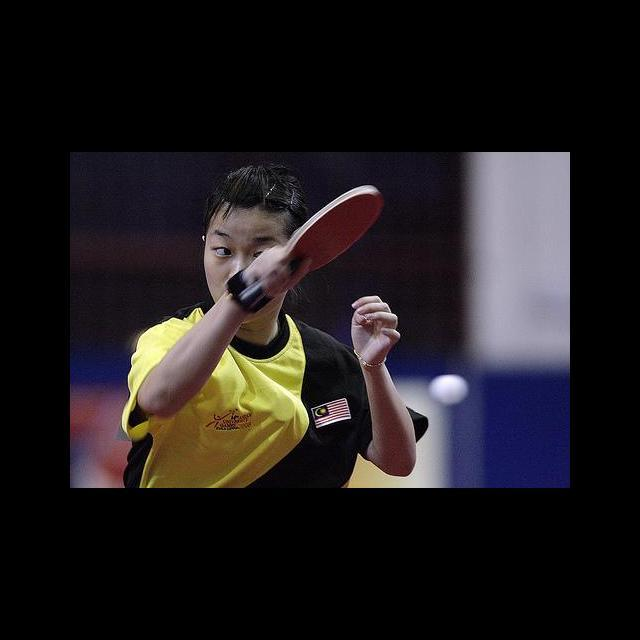ping-pong-ball: (429, 372, 470, 406)
